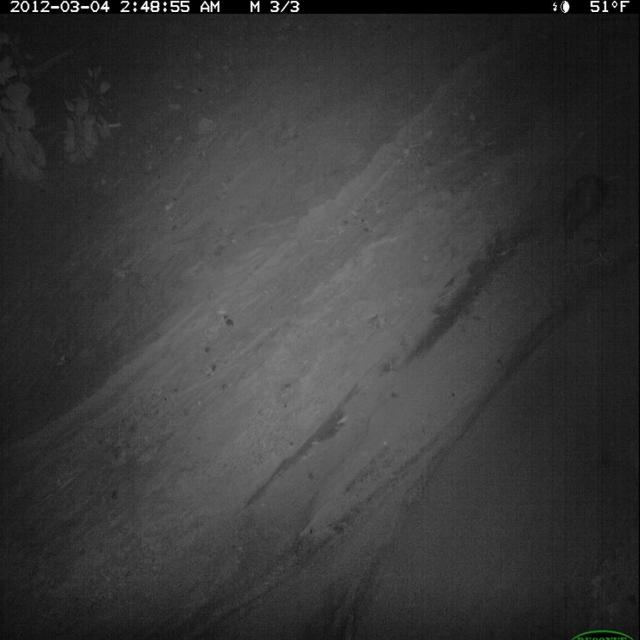opossum: (557, 166, 612, 259)
